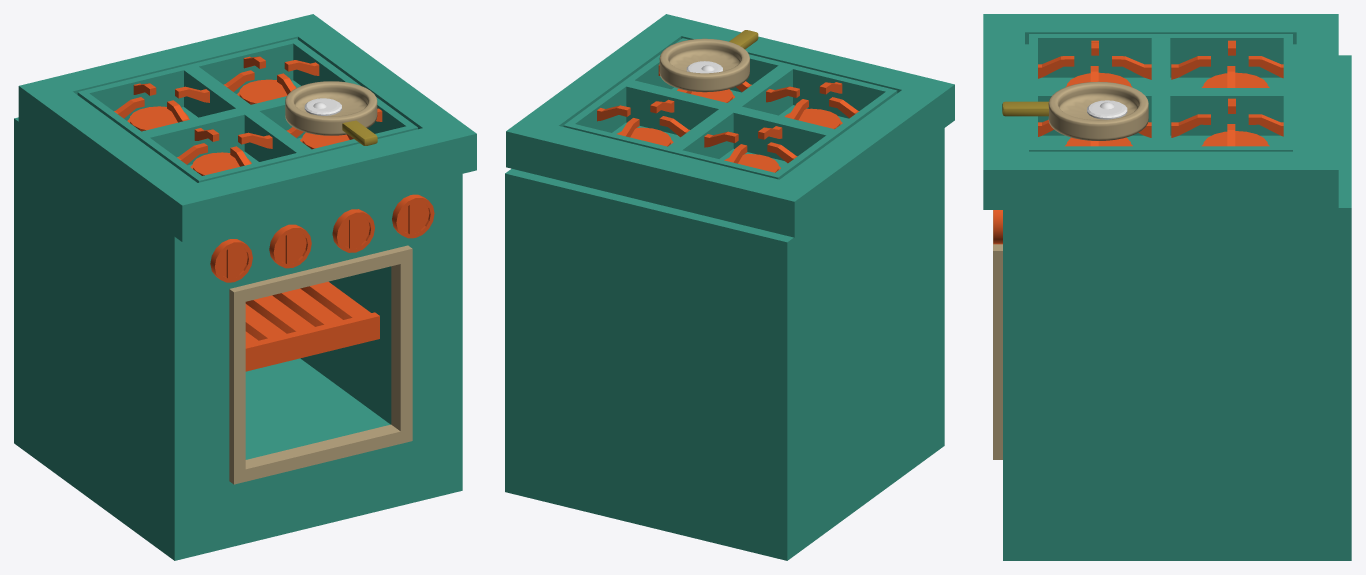
Rendered from Kitchen cabinets1.fbx.
3 views of the same model, side by side, from view 1: azimuth 30°, elevation 25°; view 2: azimuth 150°, elevation 25°; view 3: azimuth 270°, elevation 25° (orthographic). The views are drawn at different scales.
Parts seen in each view (by area): view 1: Box002, Box044, 图形004, Box101, Cylinder094, Cylinder038, Cylinder036, Cylinder037, Cylinder035, Cylinder092, Cylinder091, Cylinder089; view 2: Box002, Box044, Cylinder094, Cylinder089; view 3: Box002, Box044, Cylinder094, 图形004, Cylinder091, Box094, Cylinder092, Cylinder095, Box087, Box078, Box091, Cylinder089 (+1 smaller).
Part boxes in pixels (bbox=[...]): Box002: bbox=[14, 80, 462, 560]; Box044: bbox=[18, 14, 476, 241]; 图形004: bbox=[229, 245, 412, 484]; Box101: bbox=[245, 281, 379, 371]; Cylinder094: bbox=[285, 81, 377, 135]; Cylinder038: bbox=[392, 194, 434, 238]; Cylinder036: bbox=[269, 224, 311, 268]; Cylinder037: bbox=[332, 209, 374, 252]; Cylinder035: bbox=[210, 239, 252, 282]; Cylinder092: bbox=[127, 106, 189, 131]; Cylinder091: bbox=[237, 79, 296, 104]; Cylinder089: bbox=[190, 152, 251, 175]; Box002: bbox=[505, 87, 944, 560]; Box044: bbox=[506, 14, 954, 237]; Cylinder094: bbox=[659, 38, 749, 92]; Cylinder089: bbox=[784, 108, 842, 129]; Box002: bbox=[1003, 55, 1351, 560]; Box044: bbox=[983, 14, 1338, 209]; Cylinder094: bbox=[1048, 81, 1148, 140]; 图形004: bbox=[993, 210, 1002, 459]; Cylinder091: bbox=[1201, 131, 1269, 146]; Box094: bbox=[1002, 101, 1048, 116]; Cylinder092: bbox=[1201, 72, 1269, 87]; Cylinder095: bbox=[1087, 100, 1127, 119]; Box087: bbox=[1171, 114, 1210, 137]; Box078: bbox=[1112, 56, 1151, 79]; Box091: bbox=[1171, 56, 1210, 79]; Cylinder089: bbox=[1066, 72, 1132, 87].
Bounding box in the file's own units: 23.26 × 28.65 × 23.19.
